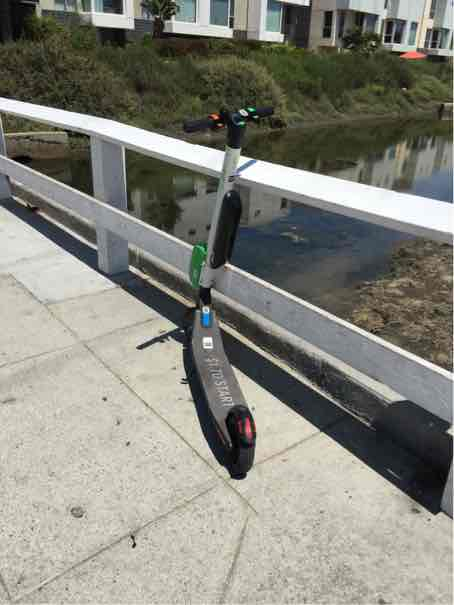scooter: (157, 104, 283, 495)
